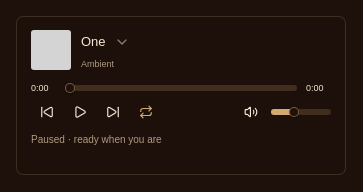
Test case: room audio › switches between multiple tracks and wraps previous selection
Click the button named "Next track". click: [113, 112]
box: [97,95,129,129]
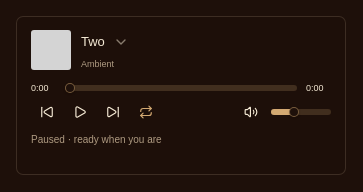
Click the button named "Previous track". click: [47, 112]
box: [31,95,63,129]
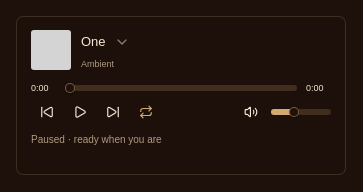
Click the button named "Previous track". click: [47, 112]
box: [31,95,63,129]
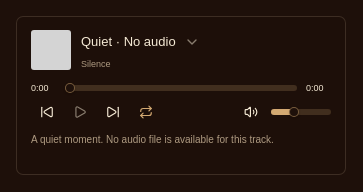
Expected: the button named "Play ambient audio" is disabled, [64,95,96,129]
